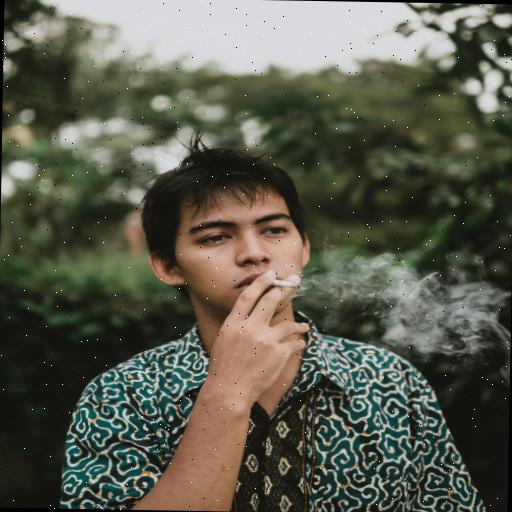merokok: (200, 180, 347, 326)
